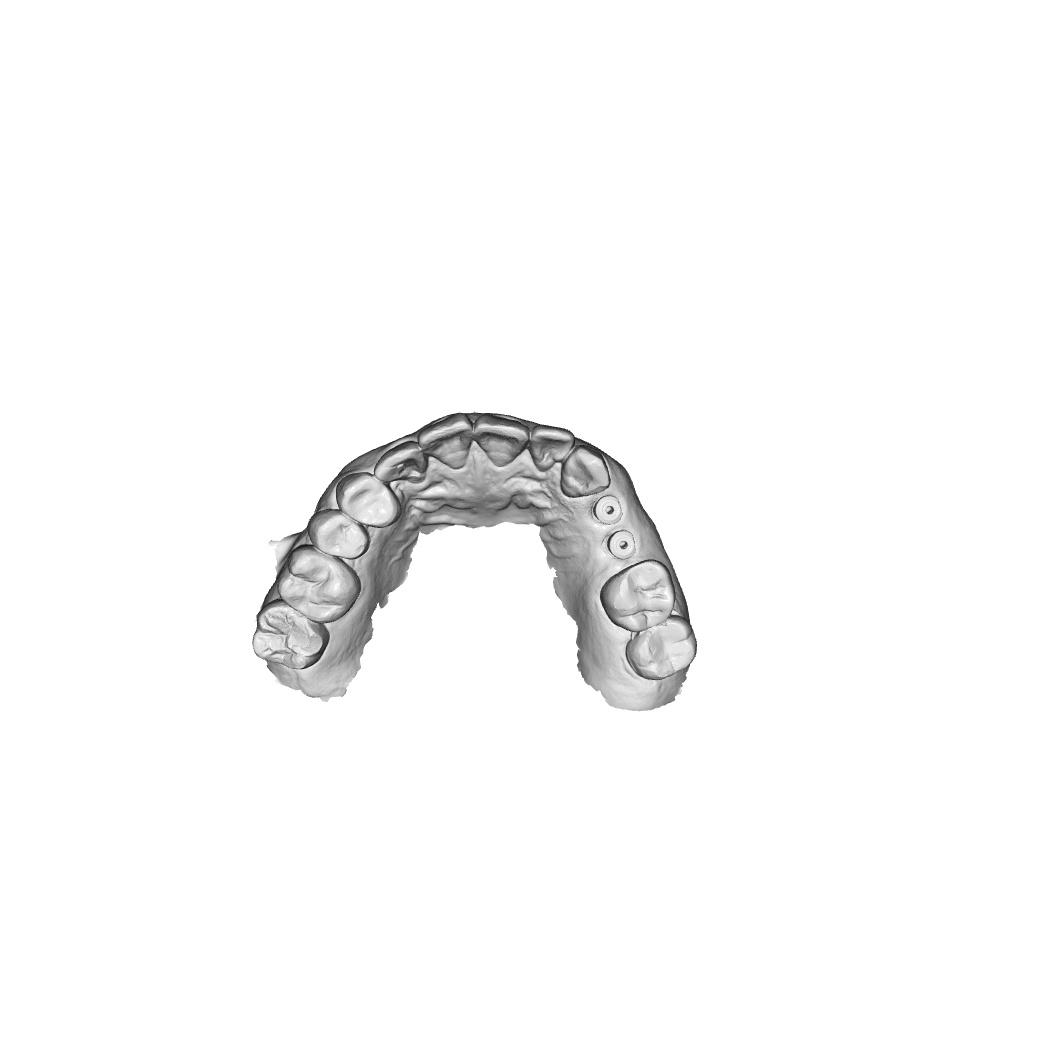canine: (560, 445, 612, 499)
implant: (606, 528, 638, 560), (592, 494, 624, 525)
incisor: (417, 412, 474, 471), (473, 413, 530, 468), (373, 439, 428, 484), (530, 423, 576, 472)
molar: (276, 544, 362, 624), (251, 598, 331, 671), (599, 558, 676, 633), (625, 614, 698, 681)
premolar: (335, 471, 402, 528), (307, 508, 371, 561)
